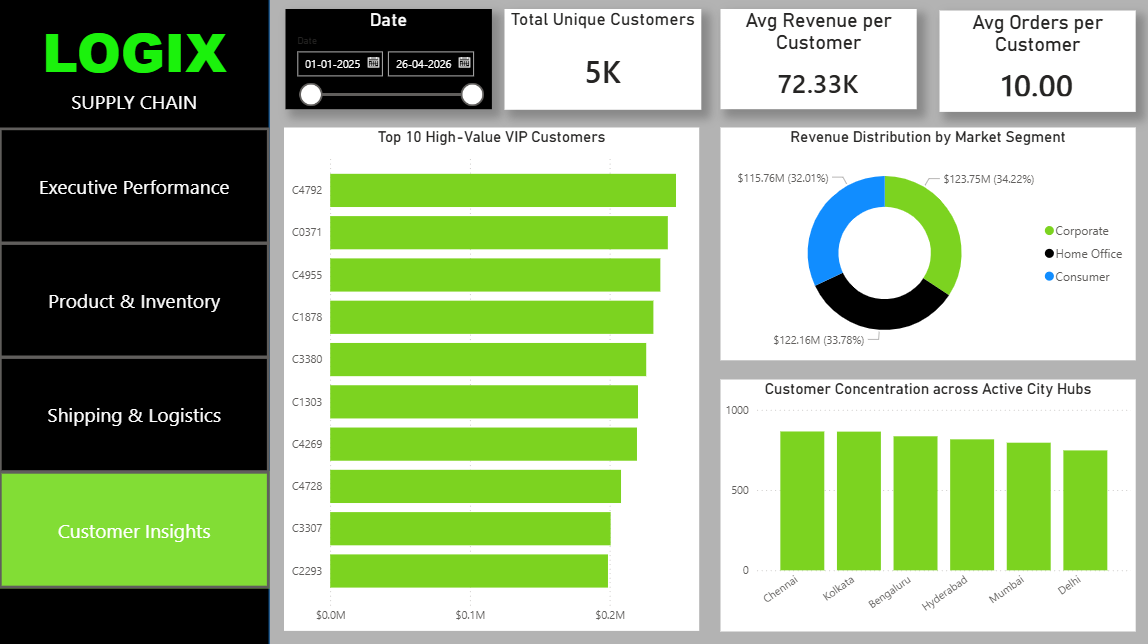

The page's visual inventory and layout, read from the dashboard file:
{"tool":"powerbi","page":{"name":"Customer Insights","canvas":[1280,720],"ordinal":3},"visuals":[{"type":"group","id":"g1","title":"Group 1","box":[0,0,300.6,720.5],"z":0},{"type":"shape","box":[0,0,300.6,720.5],"z":1000,"group":"g1"},{"type":"slicer","title":"Date","fields":{"Values":["Calendar.Date"]},"box":[318.1,12.7,229,111.3],"z":1000},{"type":"cardVisual","title":"Total Unique Customers","fields":{"Data":["_Measures.Total Unique Customers"]},"box":[561.9,13,218.6,111.7],"z":2000},{"type":"actionButton","box":[0,144.7,300.6,130.4],"z":2000,"group":"g1"},{"type":"cardVisual","fields":{"Data":["_Measures.Avg Orders per Customer"]},"box":[1045,14.3,217.9,112.9],"z":3000},{"type":"actionButton","box":[0,272,300.6,130.4],"z":3000,"group":"g1"},{"type":"cardVisual","fields":{"Data":["_Measures.Avg Revenue per Customer"]},"box":[801.7,14,217.9,111.3],"z":4000},{"type":"actionButton","box":[0,399,300.6,130.4],"z":4000,"group":"g1"},{"type":"clusteredBarChart","title":"Top 10 High-Value VIP Customers","fields":{"Category":["customers.customer_id"],"Y":["_Measures.Total Revenue"]},"box":[317.5,145.5,461.1,559.4],"z":5000},{"type":"actionButton","box":[0,527,300.6,130.4],"z":5000,"group":"g1"},{"type":"donutChart","title":"Revenue Distribution by Market Segment","fields":{"Category":["customers.segment"],"Y":["_Measures.Total Revenue"]},"box":[801.3,145.5,461.1,258.9],"z":6000},{"type":"clusteredColumnChart","title":"Customer Concentration across Active City Hubs","fields":{"Category":["customers.city"],"Y":["_Measures.Total Unique Customers"]},"box":[801.3,425.2,461.1,279.7],"z":7000},{"type":"textbox","title":"LOGIX SUPPLY CHAIN","box":[0,0,300.6,144.7],"z":9000,"group":"g1"}]}

Visuals, with their boxes in screenshot pixels (x1, y1, x2, y2), scaled from the page's 1280x720 canvas onto the 1148x644 screenshot:
"Group 1" group: crop(0, 0, 270, 643)
shape: crop(0, 0, 270, 643)
"Date" slicer: crop(285, 11, 491, 111)
"Total Unique Customers" cardVisual: crop(504, 12, 700, 112)
actionButton: crop(0, 129, 270, 246)
cardVisual - _Measures.Avg Orders per Customer: crop(937, 13, 1133, 114)
actionButton: crop(0, 243, 270, 360)
cardVisual - _Measures.Avg Revenue per Customer: crop(719, 13, 914, 112)
actionButton: crop(0, 357, 270, 474)
"Top 10 High-Value VIP Customers" clusteredBarChart: crop(285, 130, 698, 630)
actionButton: crop(0, 471, 270, 588)
"Revenue Distribution by Market Segment" donutChart: crop(719, 130, 1132, 362)
"Customer Concentration across Active City Hubs" clusteredColumnChart: crop(719, 380, 1132, 630)
"LOGIX SUPPLY CHAIN" textbox: crop(0, 0, 270, 129)
